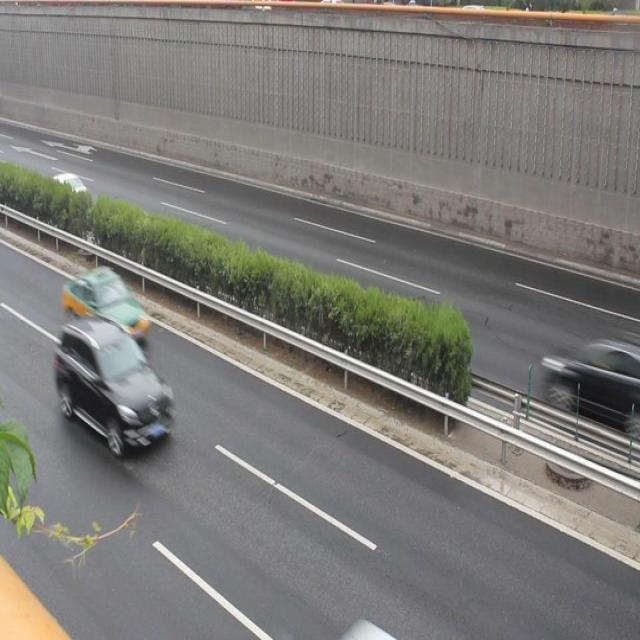car: (56, 319, 173, 453), (543, 336, 626, 426), (64, 267, 148, 341), (37, 174, 90, 218)
